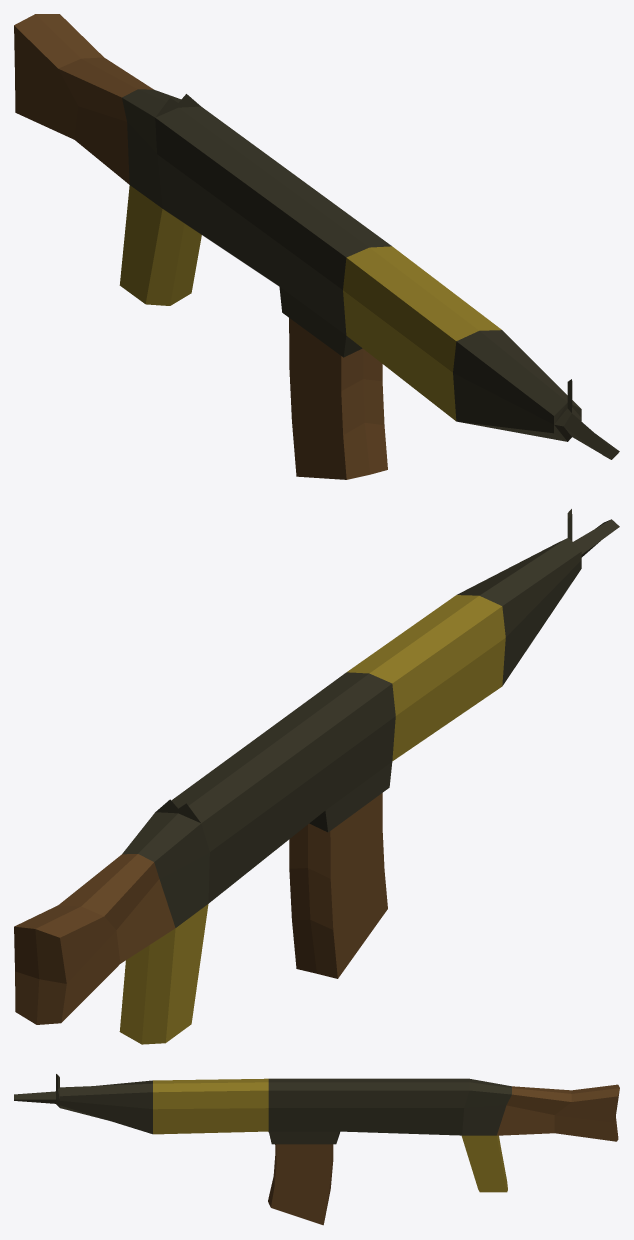
Rendered from Terrorist Rifle 1_1.fbx.
3 views of the same model, one above another, from view 1: azimuth 30°, elevation 25°; view 2: azimuth 150°, elevation 25°; view 3: azimuth 270°, elevation 25° (orthographic). The views are drawn at different scales.
Visible parts, largest first — view 1: TerroristRifle_1, TR_Magazine; view 2: TerroristRifle_1, TR_Magazine; view 3: TerroristRifle_1, TR_Magazine.
Part boxes in pixels (bbox=[...]): TerroristRifle_1: bbox=[14, 14, 619, 459]; TR_Magazine: bbox=[289, 318, 387, 479]; TerroristRifle_1: bbox=[14, 509, 619, 1044]; TR_Magazine: bbox=[289, 793, 387, 978]; TerroristRifle_1: bbox=[14, 1074, 619, 1192]; TR_Magazine: bbox=[268, 1144, 333, 1225].
Bounding box in the file's own units: 22.97 × 116 × 434.
